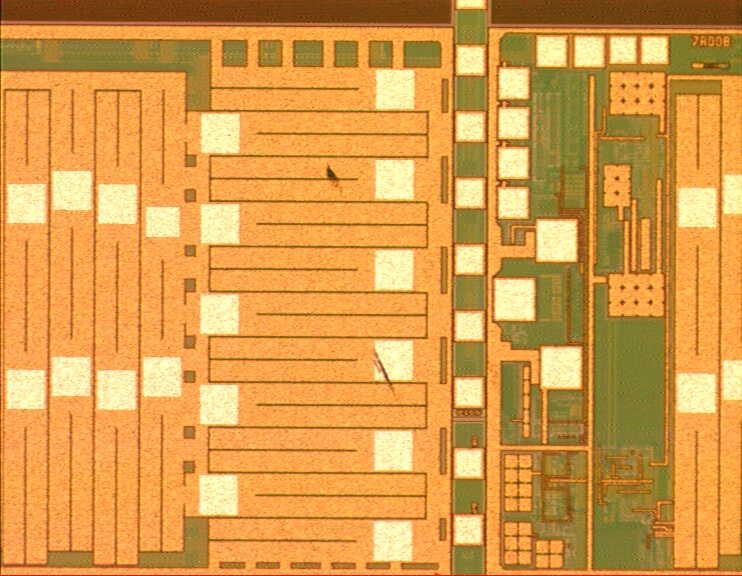SCRATCH: (312, 151, 426, 453)
